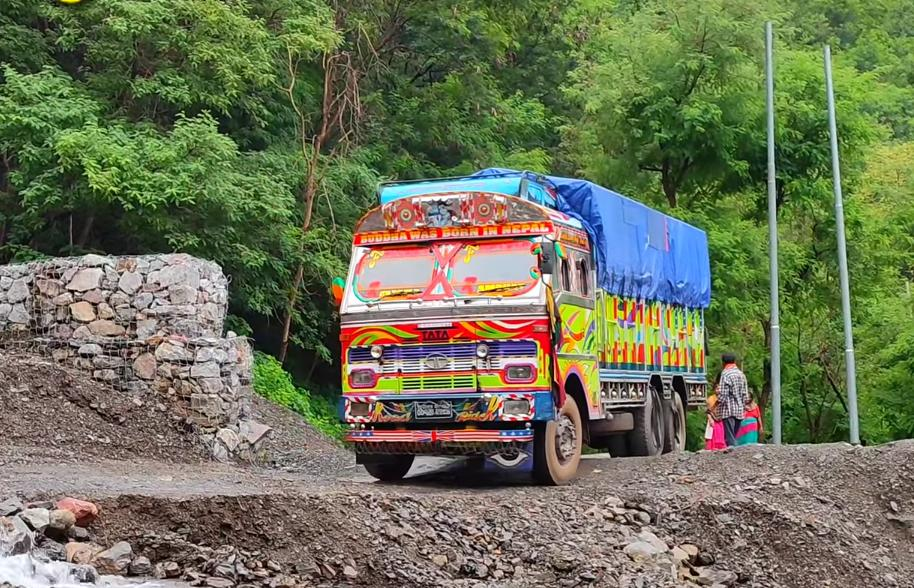truck: (331, 166, 712, 485)
